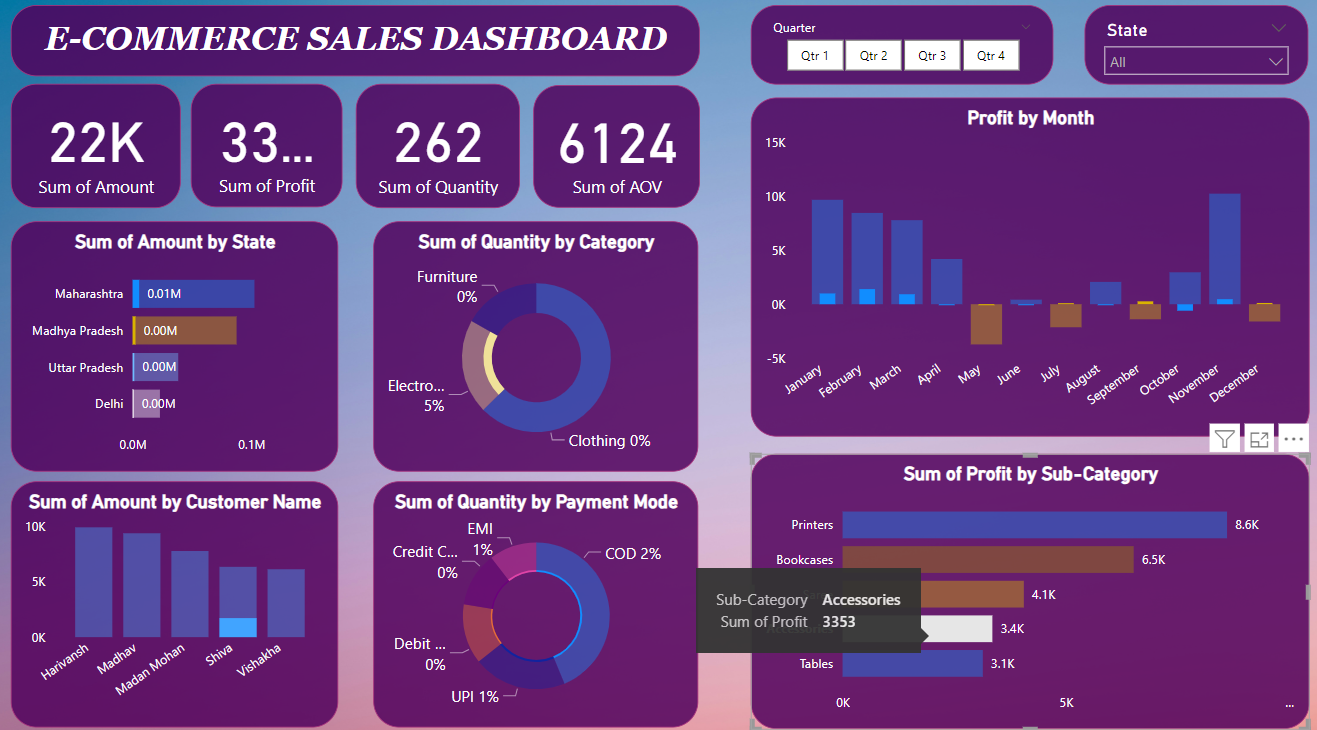

This screenshot's page, from the dashboard's own definition file:
{"tool":"powerbi","page":{"name":"Page 1","canvas":[1280,720],"ordinal":0},"visuals":[{"type":"textbox","box":[13.3,14.5,664.5,68.7],"z":0},{"type":"columnChart","title":"Profit by Month","fields":{"Category":["Orders.Order Date.Variation.Date Hierarchy.Month"],"Y":["Sum(Details.Profit)"]},"box":[727.2,103.7,539.1,326.8],"z":1000},{"type":"barChart","fields":{"Category":["Details.Sub-Category"],"Y":["Sum(Details.Profit)"]},"box":[726,445,539.1,266.5],"z":2000},{"type":"donutChart","fields":{"Category":["Details.Category"],"Y":["Sum(Details.Quantity)"]},"box":[363,223.1,313.6,241.2],"z":3000},{"type":"donutChart","title":"Sum of Quantity by Payment Mode","fields":{"Y":["Sum(Details.Quantity)"],"Category":["Details.PaymentMode"]},"box":[362.5,473.9,313.6,238.6],"z":4000},{"type":"card","fields":{"Values":["Sum(Details.Amount)"]},"box":[13,91,164,120],"z":5000},{"type":"card","fields":{"Values":["Sum(Details.Quantity)"]},"box":[346,90,158,120],"z":6000},{"type":"card","fields":{"Values":["Sum(Details.Profit)"]},"box":[187,91,146,119],"z":7000},{"type":"card","fields":{"Values":["Sum(Details.AOV)"]},"box":[517,92,161,118],"z":8000},{"type":"barChart","fields":{"Category":["Orders.State"],"Y":["Sum(Details.Amount)"]},"box":[13.3,223.1,316,241.2],"z":9000},{"type":"columnChart","title":"Sum of Amount by Customer Name","fields":{"Category":["Orders.CustomerName"],"Y":["Sum(Details.Amount)"]},"box":[13.6,473.9,315.9,238.6],"z":10000},{"type":"slicer","fields":{"Values":["Orders.Order Date.Variation.Date Hierarchy.Quarter"]},"box":[727.2,14.5,291.9,77.2],"z":11000},{"type":"slicer","fields":{"Values":["Orders.State"]},"box":[1049.2,14.5,215.9,77.2],"z":12000}]}

Visuals, with their boxes in screenshot pixels (x1, y1, x2, y2), scaled from the page's 1280x720 canvas onto the 1317x730 screenshot:
textbox: box=[14, 15, 697, 84]
"Profit by Month" columnChart: box=[748, 105, 1303, 436]
barChart - Details.Sub-Category x Sum(Details.Profit): box=[747, 451, 1302, 721]
donutChart - Details.Category x Sum(Details.Quantity): box=[373, 226, 696, 471]
"Sum of Quantity by Payment Mode" donutChart: box=[373, 480, 696, 722]
card - Sum(Details.Amount): box=[13, 92, 182, 214]
card - Sum(Details.Quantity): box=[356, 91, 519, 213]
card - Sum(Details.Profit): box=[192, 92, 343, 213]
card - Sum(Details.AOV): box=[532, 93, 698, 213]
barChart - Orders.State x Sum(Details.Amount): box=[14, 226, 339, 471]
"Sum of Amount by Customer Name" columnChart: box=[14, 480, 339, 722]
slicer - Orders.Order Date.Variation.Date Hierarchy.Quarter: box=[748, 15, 1049, 93]
slicer - Orders.State: box=[1080, 15, 1302, 93]
